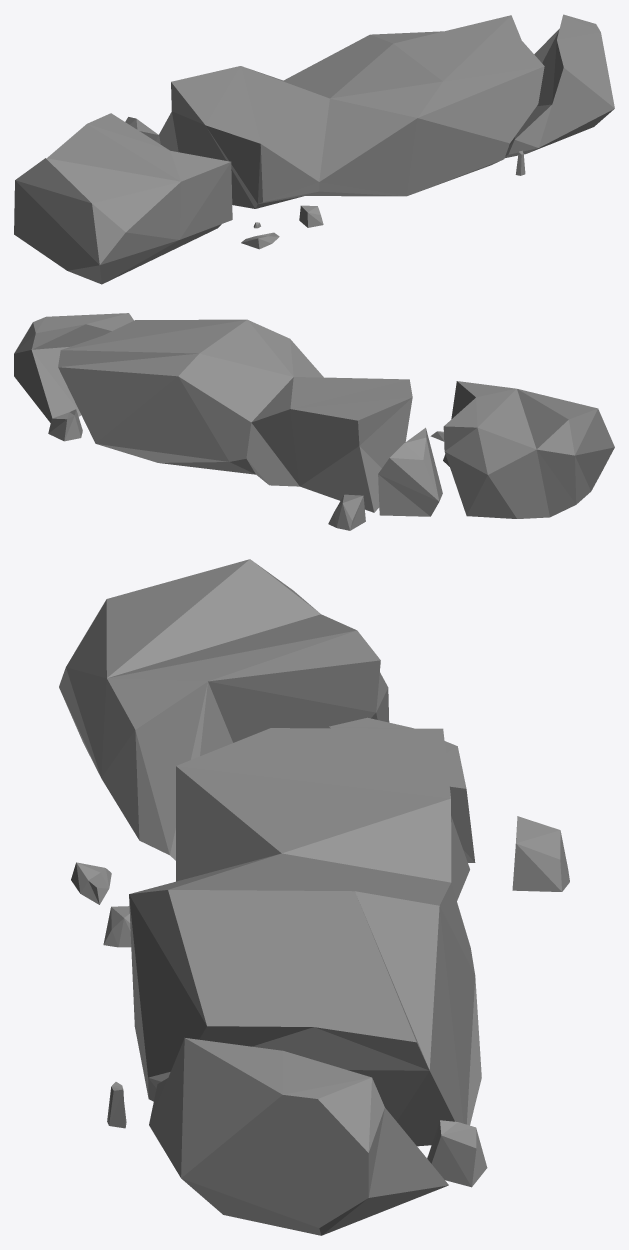
The model's file is Stone_B_05.FBX.
3 renders of one model, top to bottom at view 1: azimuth 30°, elevation 25°; view 2: azimuth 150°, elevation 25°; view 3: azimuth 270°, elevation 25°, orthographic. The views are drawn at different scales.
Visible parts, largest first — view 1: Stone_B_05; view 2: Stone_B_05; view 3: Stone_B_05.
Boxes of the visible parts, x1=… form: Stone_B_05: x1=14, y1=14, x2=614, y2=284; Stone_B_05: x1=14, y1=313, x2=614, y2=530; Stone_B_05: x1=59, y1=559, x2=569, y2=1235.
Bounding box in the file's own units: 11.86 × 1.85 × 4.83.
